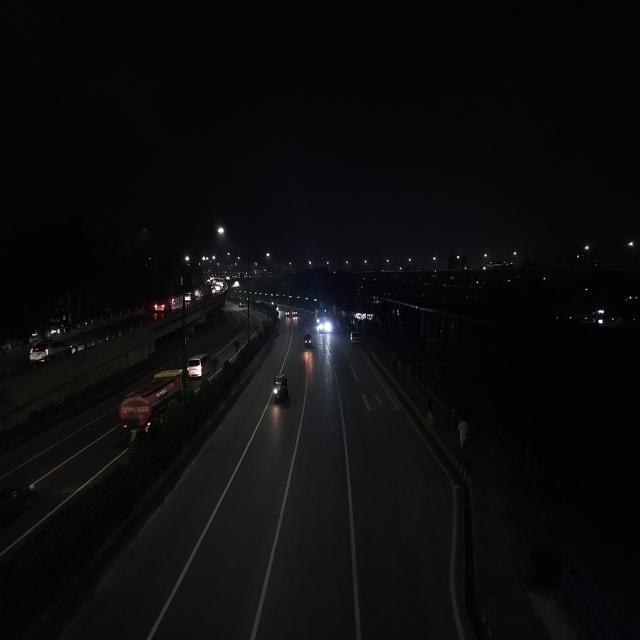bus: (315, 309, 332, 335)
car: (27, 337, 72, 364), (187, 351, 218, 382), (152, 299, 171, 312), (348, 330, 361, 347)
cng: (271, 371, 292, 407), (302, 332, 314, 352), (238, 300, 247, 312), (292, 307, 298, 318), (285, 310, 290, 318)
truck: (116, 366, 190, 435), (200, 285, 212, 297)
